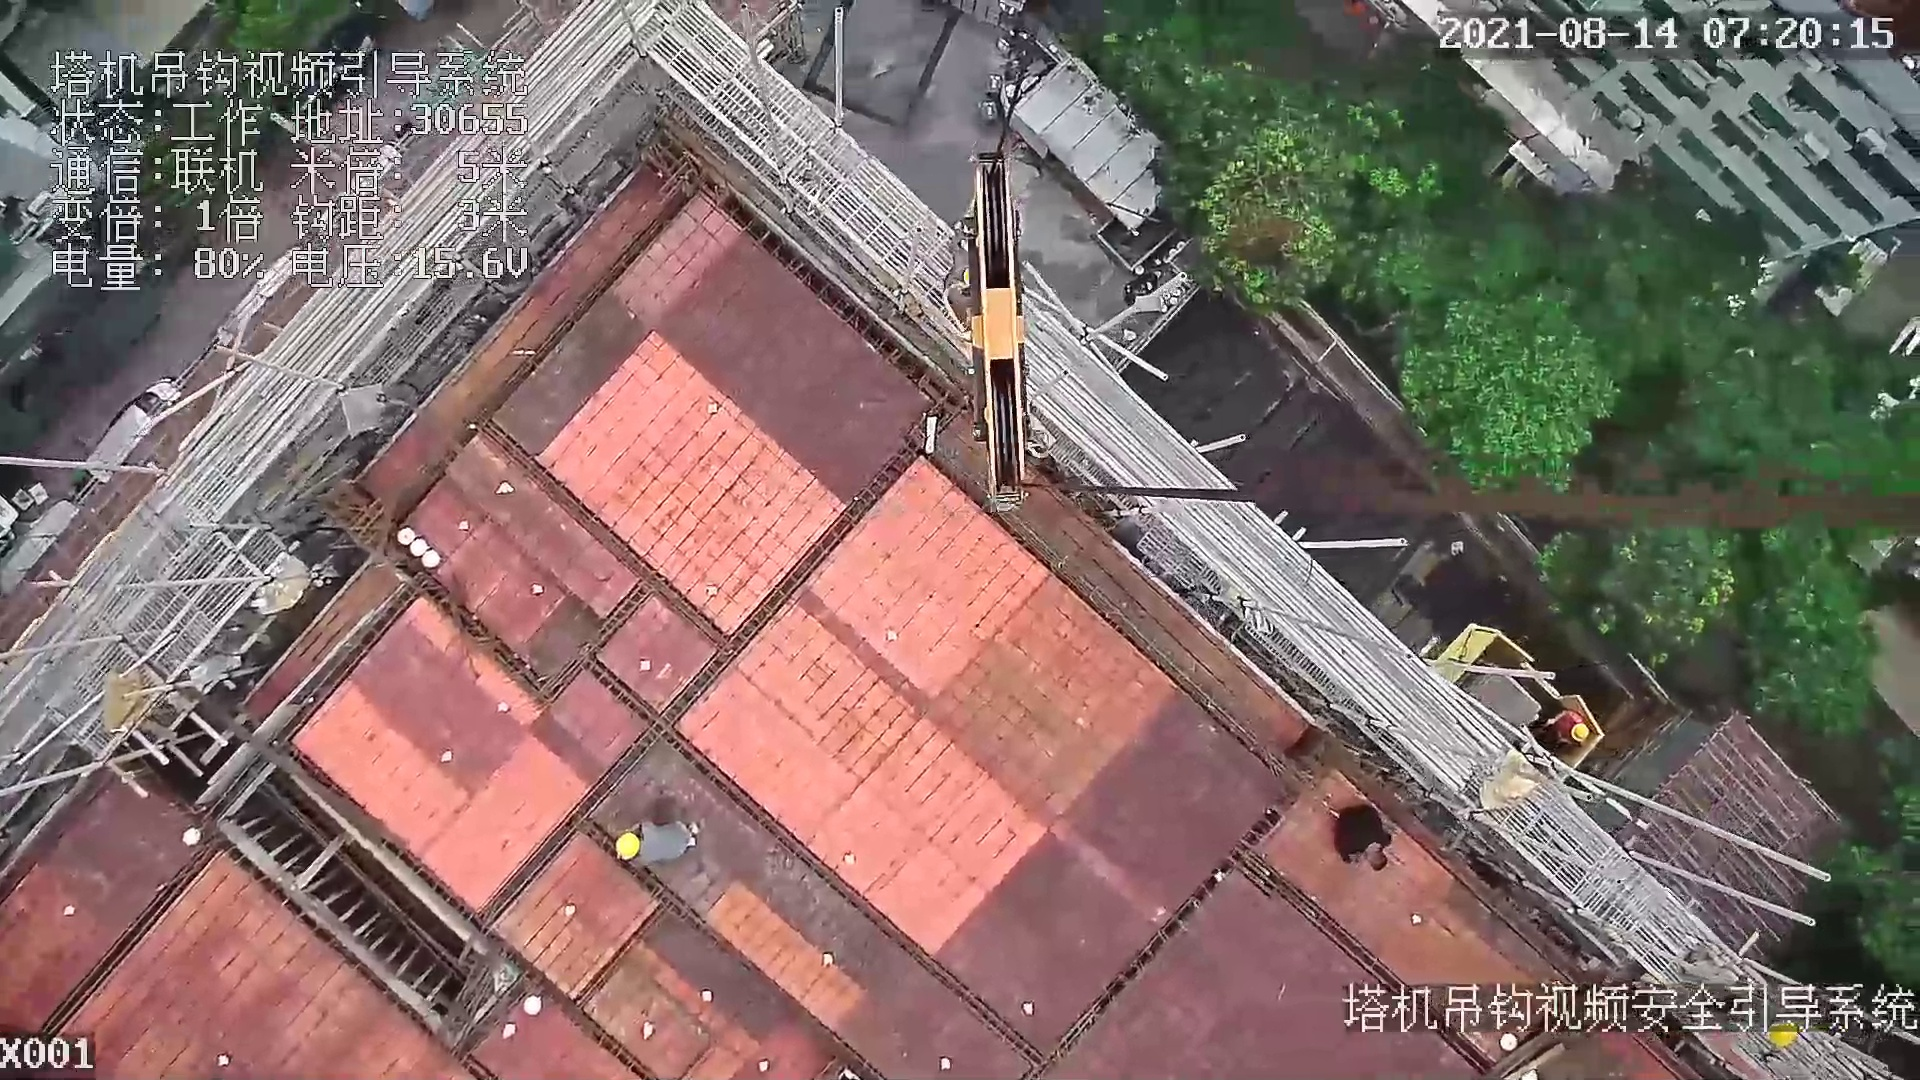helmet: (612, 828, 640, 863), (1567, 722, 1591, 746)
hook: (941, 151, 1037, 518)
person: (608, 814, 712, 867), (1545, 697, 1591, 755)
